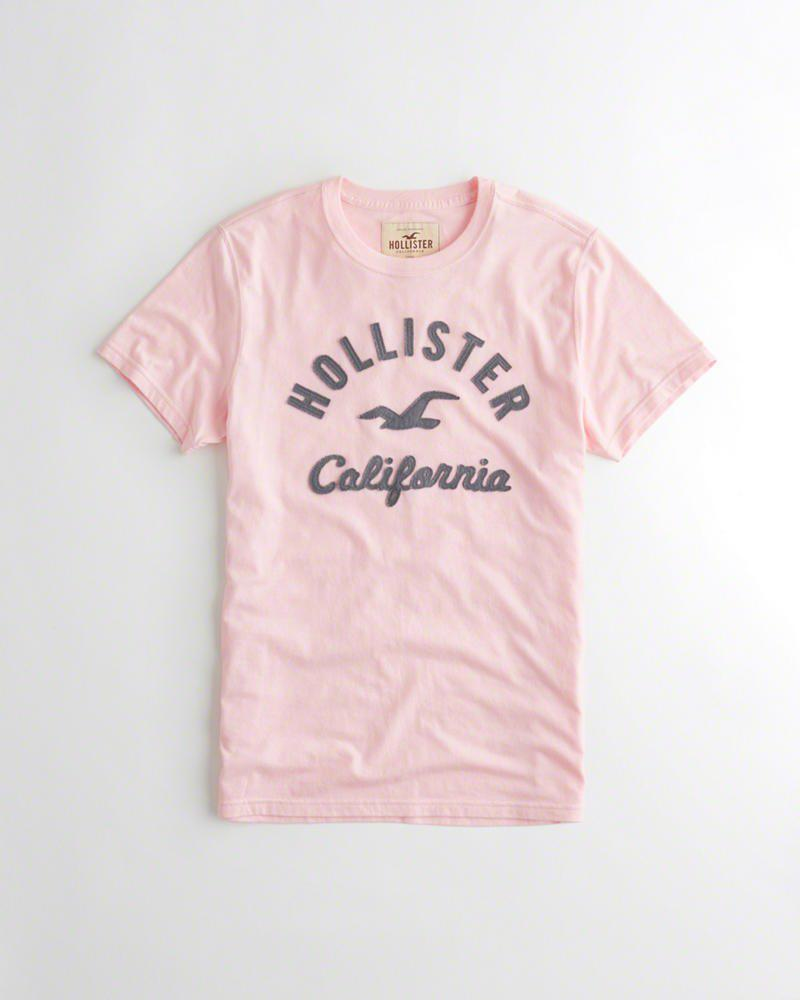teeshirt: (100, 169, 742, 846)
